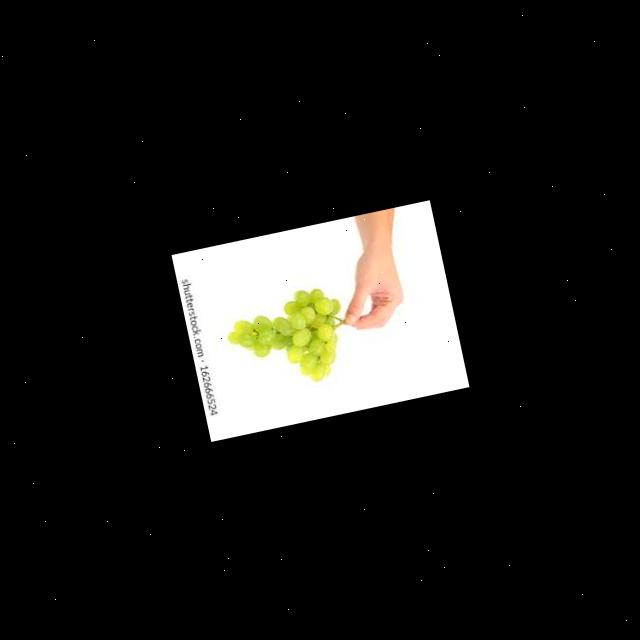grape: (220, 280, 356, 396)
